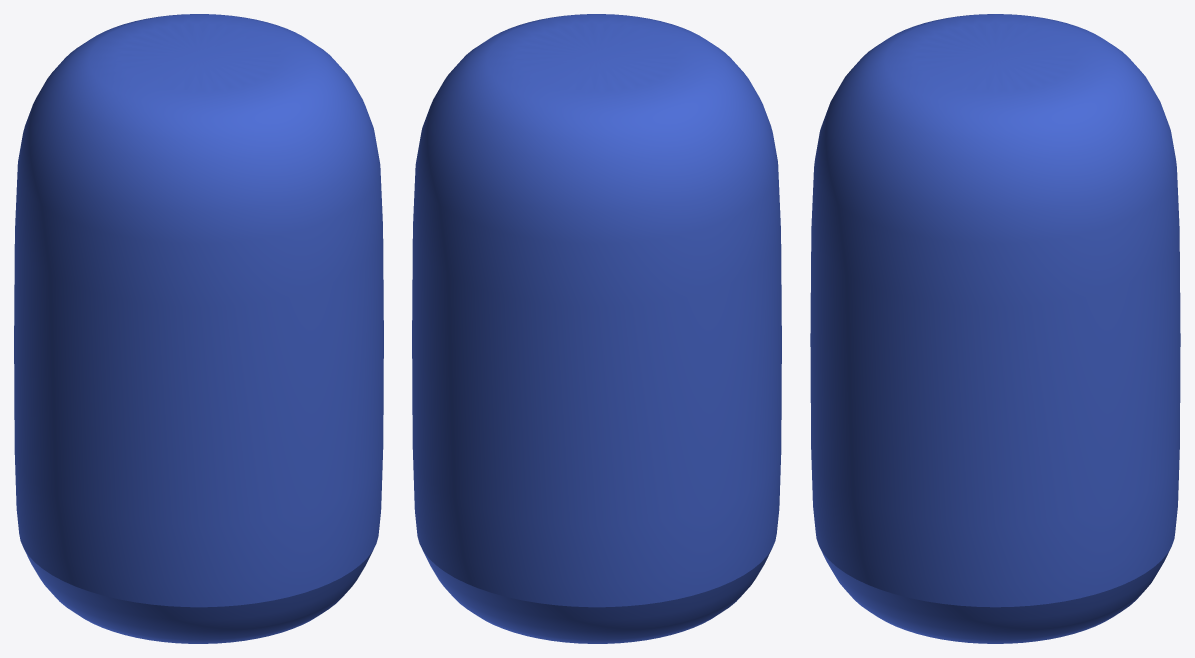
The model's file is modelka.glb.
The picture shows the model from 3 angles, left to right: view 1: azimuth 30°, elevation 25°; view 2: azimuth 150°, elevation 25°; view 3: azimuth 270°, elevation 25°; orthographic projection.
Visible parts, largest first — view 1: Mesh.037; view 2: Mesh.037; view 3: Mesh.037.
Boxes of the visible parts, x1,y1,x2,y2 form: Mesh.037: (14, 14, 383, 643); Mesh.037: (412, 14, 781, 643); Mesh.037: (810, 14, 1180, 643).
Size of the model in its own units: 2.24 by 3.61 by 2.24.
